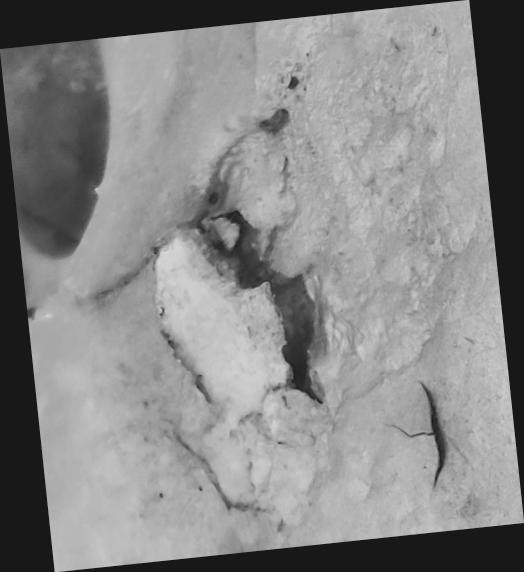crack: (0, 1, 524, 572)
